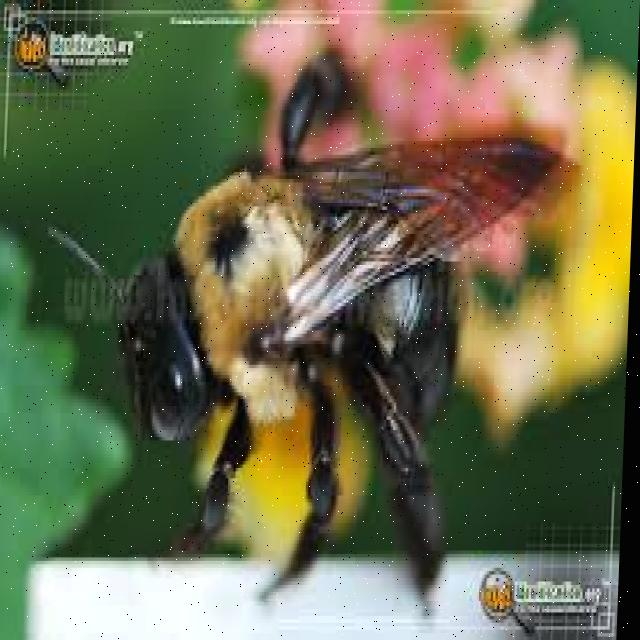Xylocopa: (70, 59, 580, 601)
